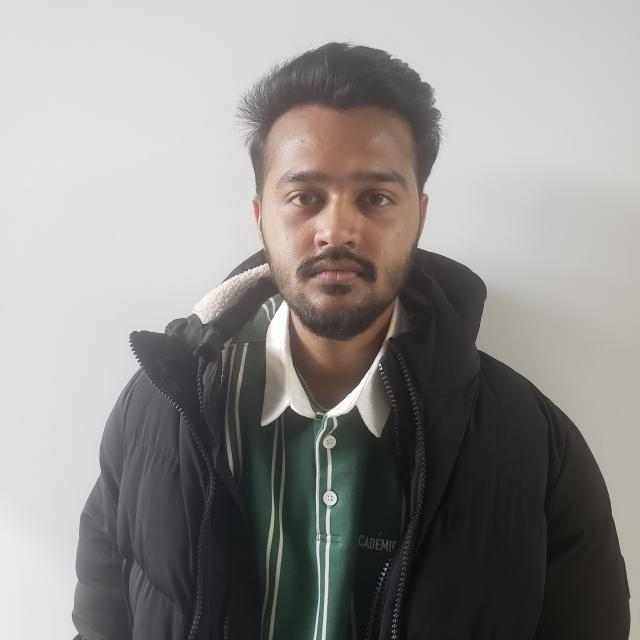sad: (244, 47, 446, 332)
